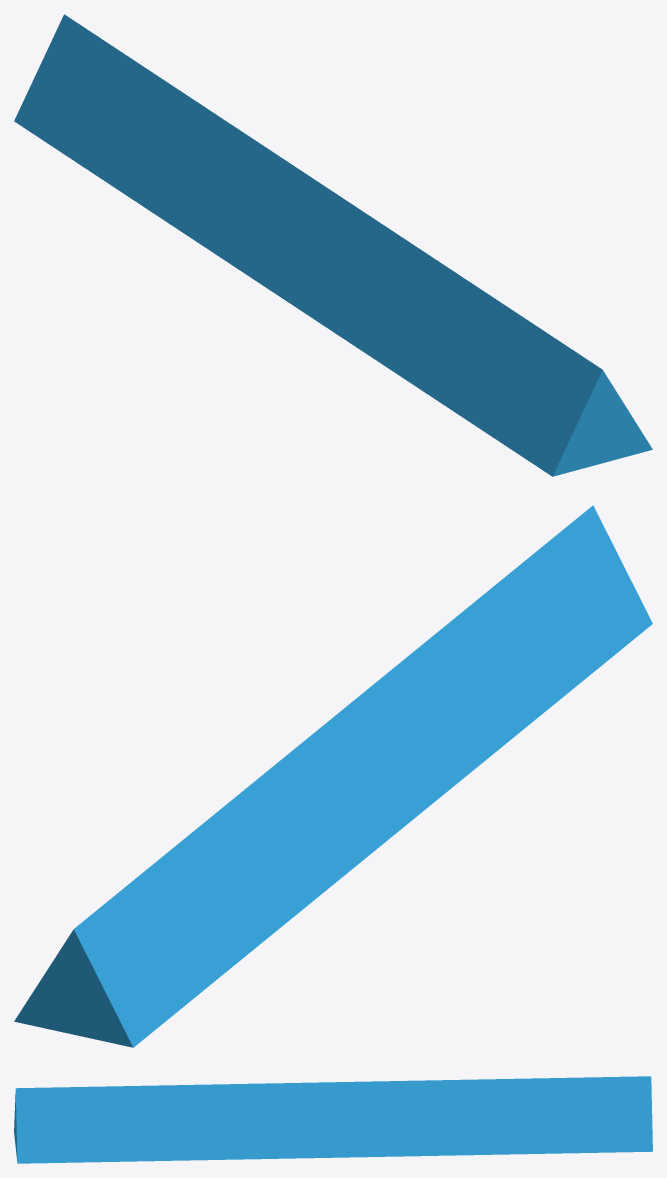
Rendered from tree.glb.
3 renders of one model, top to bottom at view 1: azimuth 30°, elevation 25°; view 2: azimuth 150°, elevation 25°; view 3: azimuth 270°, elevation 25°, orthographic. The views are drawn at different scales.
Visible parts, largest first — view 1: 柱体; view 2: 柱体; view 3: 柱体.
Part boxes in pixels (bbox=[...]): 柱体: bbox=[14, 14, 652, 476]; 柱体: bbox=[14, 505, 652, 1047]; 柱体: bbox=[14, 1076, 652, 1163].
Size of the model in its own units: 15.53 by 9.79 by 94.85.
